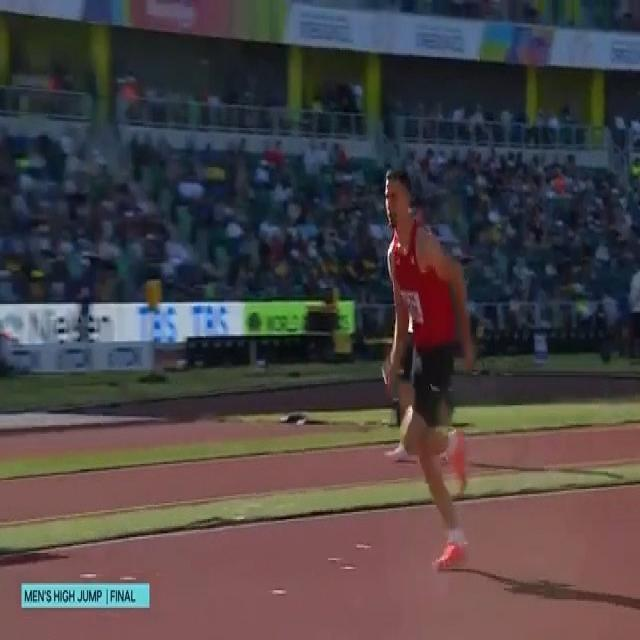run: (381, 168, 476, 579)
